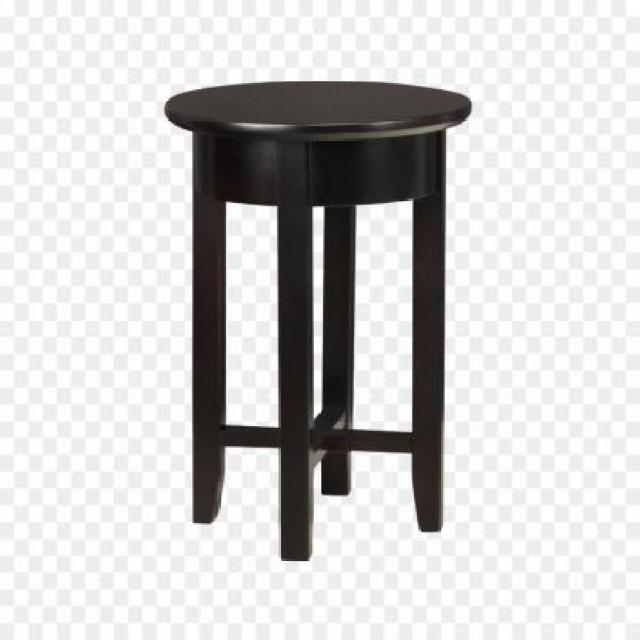table: (164, 80, 470, 562)
